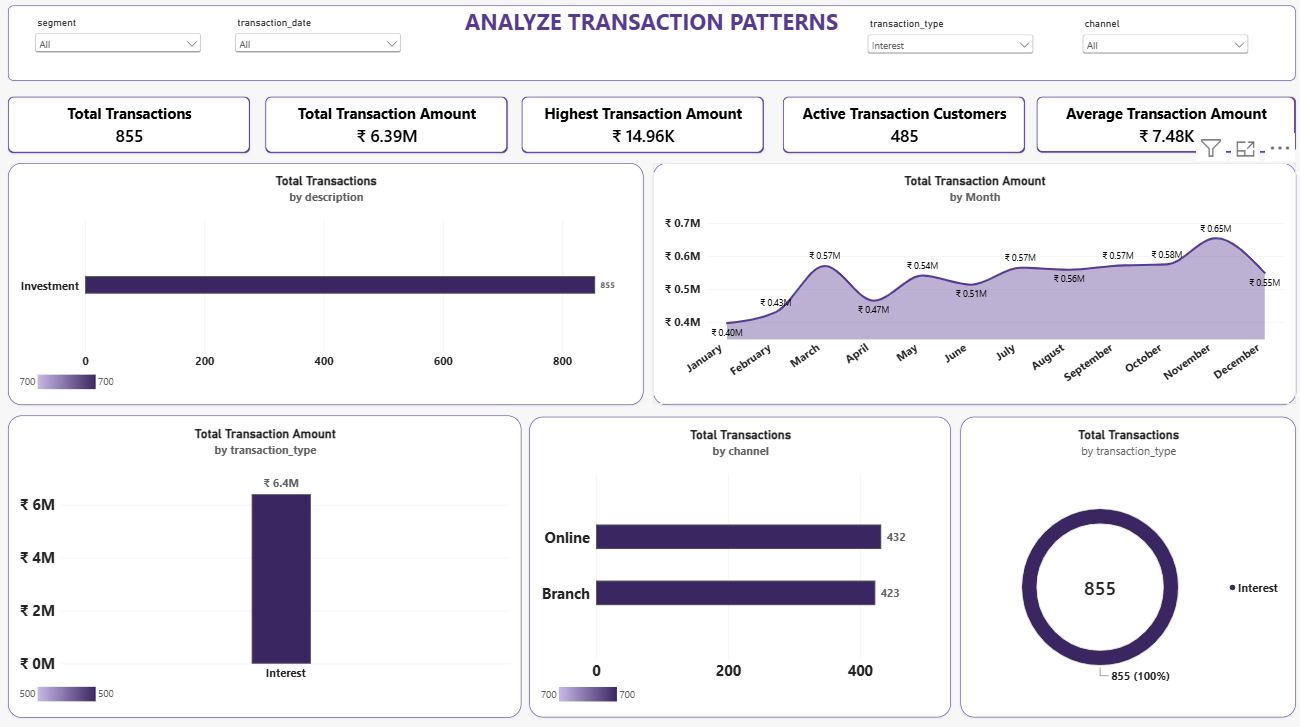

This screenshot's page, from the dashboard's own definition file:
{"tool":"powerbi","page":{"name":"Transaction Patterns","canvas":[1920,1080],"ordinal":5},"visuals":[{"type":"textbox","box":[36.3,32.2,1864,108.8],"z":0},{"type":"cardVisual","fields":{"Data":["transactions.Average Transaction Amount"]},"box":[1525.4,165.2,374.8,80.6],"z":1000},{"type":"cardVisual","fields":{"Data":["Table.Total Transactions"]},"box":[36.3,165.2,350,81.4],"z":2000},{"type":"cardVisual","fields":{"Data":["transactions.Highest Transaction Amount"]},"box":[779.9,165.2,350,81.4],"z":3000},{"type":"cardVisual","fields":{"Data":["transactions.Active Transaction Customers"]},"box":[1158.7,165.2,350,81.4],"z":4000},{"type":"cardVisual","fields":{"Data":["Table.Total Transaction Amount"]},"box":[409.1,165.2,350,81.4],"z":5000},{"type":"slicer","fields":{"Values":["transactions.transaction_date"]},"box":[360.7,48.4,249.7,76],"z":6000},{"type":"slicer","fields":{"Values":["transactions.transaction_type"]},"box":[1275.6,50.4,249.7,76],"z":7000},{"type":"slicer","fields":{"Values":["transactions.channel"]},"box":[1587.9,50.4,249.7,76],"z":8000},{"type":"slicer","fields":{"Values":["customers.segment"]},"box":[70.5,48.4,249.7,65.1],"z":9000},{"type":"clusteredColumnChart","fields":{"Category":["transactions.transaction_type"],"Y":["Table.Total Transaction Amount"]},"box":[36.3,626.7,743.6,437.3],"z":10000},{"type":"clusteredBarChart","fields":{"Category":["transactions.channel"],"Y":["Table.Total Transactions"]},"box":[789.9,628.7,610.6,435.3],"z":11000},{"type":"lineChart","fields":{"Category":["date_table.Date.Variation.Date Hierarchy.Month"],"Y":["Table.Total Transaction Amount"]},"box":[969.3,260,931,350.6],"z":12000},{"type":"donutChart","fields":{"Category":["transactions.transaction_type"],"Y":["Table.Total Transactions"]},"box":[1414.6,628.7,485.6,435.3],"z":13000},{"type":"clusteredBarChart","fields":{"Category":["transactions.description"],"Y":["Table.Total Transactions"]},"box":[36.3,260,920,350.6],"z":14000}]}

Visuals, with their boxes in screenshot pixels (x1, y1, x2, y2), scaled from the page's 1920x1080 canvas onto the 1300x727 screenshot:
textbox: {"left": 25, "top": 22, "right": 1287, "bottom": 95}
cardVisual - transactions.Average Transaction Amount: {"left": 1033, "top": 111, "right": 1287, "bottom": 165}
cardVisual - Table.Total Transactions: {"left": 25, "top": 111, "right": 262, "bottom": 166}
cardVisual - transactions.Highest Transaction Amount: {"left": 528, "top": 111, "right": 765, "bottom": 166}
cardVisual - transactions.Active Transaction Customers: {"left": 785, "top": 111, "right": 1022, "bottom": 166}
cardVisual - Table.Total Transaction Amount: {"left": 277, "top": 111, "right": 514, "bottom": 166}
slicer - transactions.transaction_date: {"left": 244, "top": 33, "right": 413, "bottom": 84}
slicer - transactions.transaction_type: {"left": 864, "top": 34, "right": 1033, "bottom": 85}
slicer - transactions.channel: {"left": 1075, "top": 34, "right": 1244, "bottom": 85}
slicer - customers.segment: {"left": 48, "top": 33, "right": 217, "bottom": 76}
clusteredColumnChart - transactions.transaction_type x Table.Total Transaction Amount: {"left": 25, "top": 422, "right": 528, "bottom": 716}
clusteredBarChart - transactions.channel x Table.Total Transactions: {"left": 535, "top": 423, "right": 948, "bottom": 716}
lineChart - date_table.Date.Variation.Date Hierarchy.Month x Table.Total Transaction Amount: {"left": 656, "top": 175, "right": 1287, "bottom": 411}
donutChart - transactions.transaction_type x Table.Total Transactions: {"left": 958, "top": 423, "right": 1287, "bottom": 716}
clusteredBarChart - transactions.description x Table.Total Transactions: {"left": 25, "top": 175, "right": 647, "bottom": 411}
